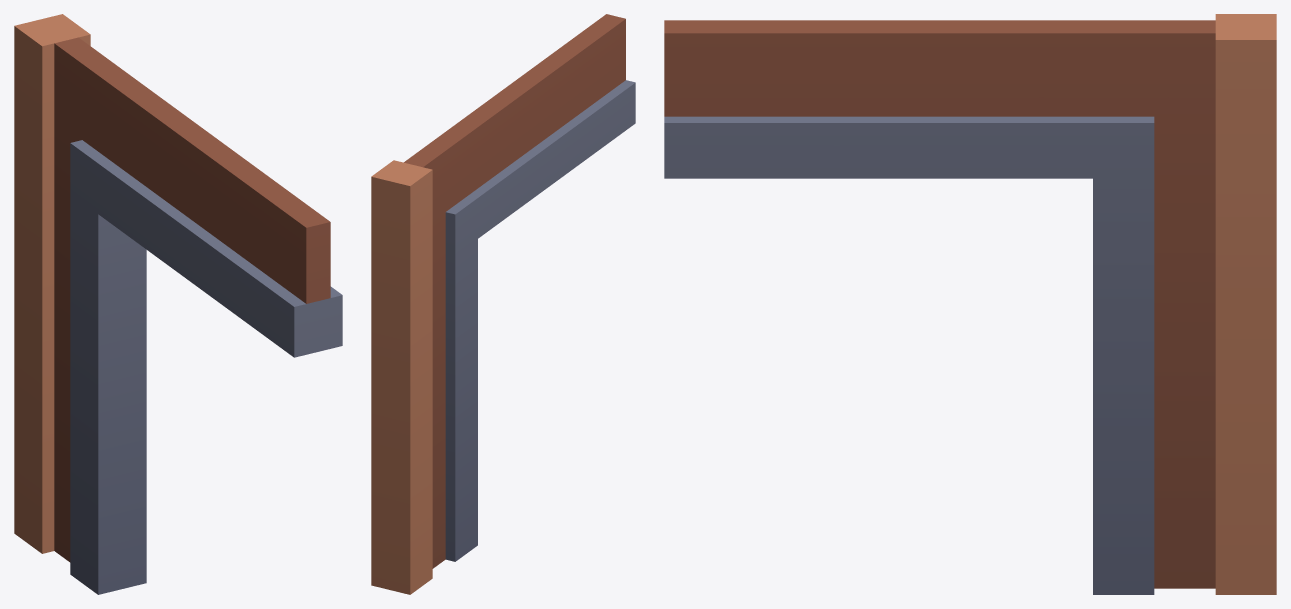
The model's file is wall-wood-doorway-square-wide.glb.
The picture shows the model from 3 angles, left to right: view 1: azimuth 30°, elevation 25°; view 2: azimuth 150°, elevation 25°; view 3: azimuth 270°, elevation 25°; orthographic projection. The views are drawn at different scales.
Parts seen in each view (by area): view 1: wall-wood-doorway-square-wide; view 2: wall-wood-doorway-square-wide; view 3: wall-wood-doorway-square-wide.
Boxes of the visible parts, x1,y1,x2,y2 form: wall-wood-doorway-square-wide: [14, 14, 342, 594]; wall-wood-doorway-square-wide: [371, 14, 635, 594]; wall-wood-doorway-square-wide: [664, 14, 1276, 594].
Bounding box in the file's own units: 0.1 × 1 × 1.
Materials: 1 (1 with a texture image).
